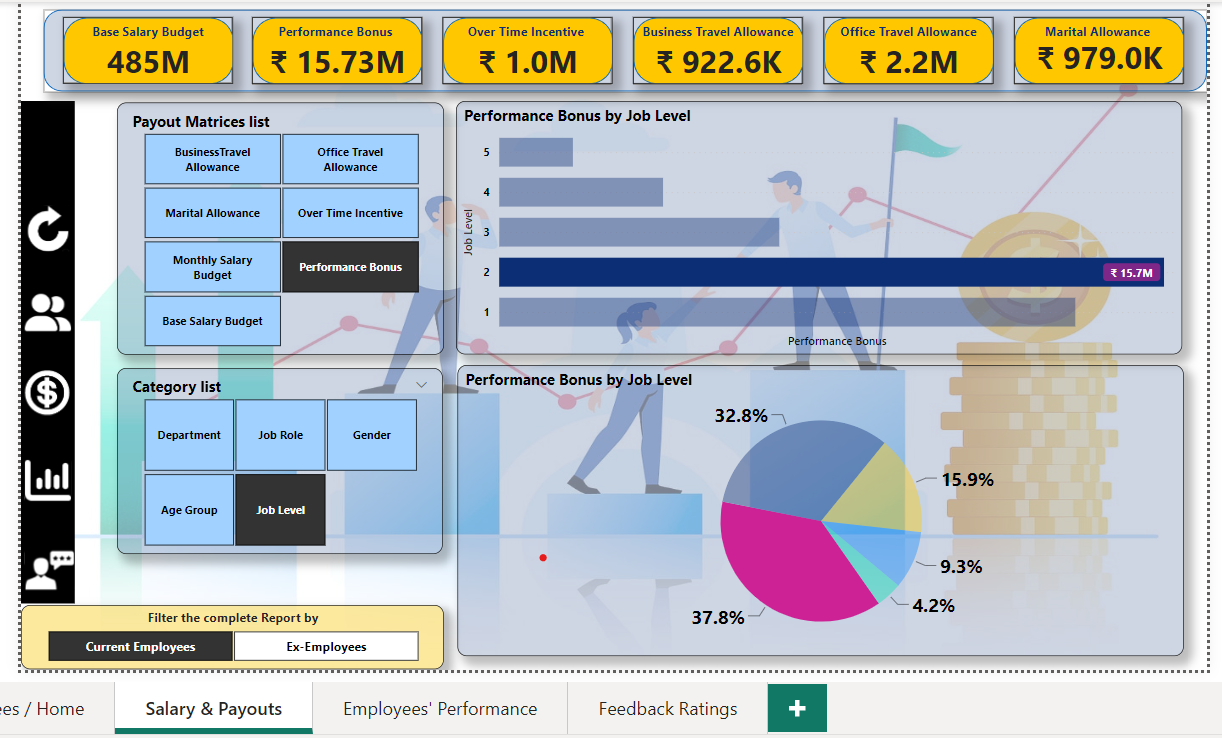

Layout of this report page (visuals, bound fields, positions):
{"tool":"powerbi","page":{"name":"Salary & Payouts","canvas":[1280,720],"ordinal":1},"visuals":[{"type":"shape","title":"backgroung","box":[24.3,8.1,1255,88.3],"z":0,"group":"g2"},{"type":"shape","box":[45.6,16.1,183.3,71.7],"z":0,"group":"g1"},{"type":"shape","box":[249.6,16.7,183.3,71.7],"z":0,"group":"g6"},{"type":"shape","box":[455,16.7,183.3,71.7],"z":0,"group":"g5"},{"type":"shape","box":[660.9,16.7,183.3,71.7],"z":0,"group":"g7"},{"type":"shape","box":[865.6,16.7,183.3,71.7],"z":0,"group":"g4"},{"type":"shape","box":[1071,16.7,183.3,71.7],"z":0,"group":"g3"},{"type":"actionButton","box":[0,212,58.2,64.7],"z":0,"group":"g8"},{"type":"slicer","title":"Filter the complete Report by","fields":{"Values":["Employees.attrition label"]},"box":[0,650.4,456.3,69.6],"z":0},{"type":"group","id":"g1","title":"Group 2","box":[45.6,16.1,183.3,71.7],"z":1000,"group":"g2"},{"type":"textbox","box":[45.6,16.1,183.3,36.7],"z":1000,"group":"g1"},{"type":"textbox","box":[249.6,16.7,183.3,36.7],"z":1000,"group":"g6"},{"type":"textbox","box":[455,16.7,183.3,36.7],"z":1000,"group":"g5"},{"type":"textbox","box":[660.3,16.7,183.3,36.7],"z":1000,"group":"g7"},{"type":"textbox","box":[865.6,16.7,183.3,36.7],"z":1000,"group":"g4"},{"type":"textbox","box":[1071,16.7,183.3,36.7],"z":1000,"group":"g3"},{"type":"shape","box":[0,106.8,58.2,542],"z":1000},{"type":"actionButton","box":[0,305.8,58.2,58.2],"z":1000,"group":"g8"},{"type":"group","id":"g2","title":"Group 3","box":[24.3,8.1,1255,88.3],"z":2000},{"type":"group","id":"g3","title":"Group 2","box":[1071,16.7,183.3,71.7],"z":2000,"group":"g2"},{"type":"card","title":"card","fields":{"Values":["Measures Table.$ Marital Allowance Paid Amount"]},"box":[1071.6,36.5,183.3,46.7],"z":2000,"group":"g3"},{"type":"card","title":"card","fields":{"Values":["Measures Table.$ yearly (base) Salary Budget"]},"box":[45.6,41.1,183.3,46.7],"z":2000,"group":"g1"},{"type":"card","title":"card","fields":{"Values":["Measures Table.$ Performance Bonus amount Paid"]},"box":[249.6,41.7,183.3,46.7],"z":2000,"group":"g6"},{"type":"card","title":"card","fields":{"Values":["Measures Table.$ Over Time Incentive Amount Paid"]},"box":[455,41.7,183.3,46.7],"z":2000,"group":"g5"},{"type":"card","title":"card","fields":{"Values":["Measures Table.$ BusinessTravel Allowance Paid Amount"]},"box":[660.3,41.7,183.3,46.7],"z":2000,"group":"g7"},{"type":"card","title":"card","fields":{"Values":["Measures Table.$ Office Travel Allowance Paid Amount"]},"box":[865.6,41.7,183.3,46.7],"z":2000,"group":"g4"},{"type":"actionButton","box":[0,393.2,58.2,56.6],"z":2000,"group":"g8"},{"type":"group","id":"g4","title":"Group 2","box":[865.6,16.7,183.3,71.7],"z":3000,"group":"g2"},{"type":"slicer","fields":{"Values":["#Parameter set of Payout Matrices.#Parameter set of Payout Matrices"]},"box":[103.6,108.4,352.7,271.8],"z":3000},{"type":"actionButton","box":[0,479,58.2,74.4],"z":3000,"group":"g8"},{"type":"group","id":"g5","title":"Group 2","box":[455,16.7,183.3,71.7],"z":4000,"group":"g2"},{"type":"barChart","fields":{"Y":["Measures Table.$ yearly (base) Salary Budget"],"Category":["Employees.Gender"]},"box":[469.2,106.8,784.7,273.4],"z":4000},{"type":"actionButton","box":[0,582.5,69.6,61.5],"z":4000,"group":"g8"},{"type":"group","id":"g6","title":"Group 2","box":[249.6,16.7,183.3,71.7],"z":5000,"group":"g2"},{"type":"slicer","fields":{"Values":["#Parameter- Category list.#Parameter- Category list"]},"box":[105.2,391.6,351.1,200.6],"z":5000},{"type":"group","id":"g7","title":"Business Travel payout","box":[660.3,16.7,183.3,71.7],"z":6000,"group":"g2"},{"type":"pieChart","fields":{"Y":["Measures Table.$ yearly (base) Salary Budget"],"Category":["Employees.Gender"]},"box":[470.8,391.6,783.1,313.9],"z":6000},{"type":"group","id":"g8","title":"Group 6","box":[0,212,69.6,432],"z":7000}]}

Visuals, with their boxes on the page's 1280x720 design canvas (x1, y1, x2, y2). These are canvas units, not pixel positions in the 1222x738 screenshot, which may show the page scaled, cropped or inside an application window:
"backgroung" shape: <region>24, 8, 1279, 96</region>
shape: <region>46, 16, 229, 88</region>
shape: <region>250, 17, 433, 88</region>
shape: <region>455, 17, 638, 88</region>
shape: <region>661, 17, 844, 88</region>
shape: <region>866, 17, 1049, 88</region>
shape: <region>1071, 17, 1254, 88</region>
actionButton: <region>0, 212, 58, 277</region>
"Filter the complete Report by" slicer: <region>0, 650, 456, 720</region>
"Group 2" group: <region>46, 16, 229, 88</region>
textbox: <region>46, 16, 229, 53</region>
textbox: <region>250, 17, 433, 53</region>
textbox: <region>455, 17, 638, 53</region>
textbox: <region>660, 17, 844, 53</region>
textbox: <region>866, 17, 1049, 53</region>
textbox: <region>1071, 17, 1254, 53</region>
shape: <region>0, 107, 58, 649</region>
actionButton: <region>0, 306, 58, 364</region>
"Group 3" group: <region>24, 8, 1279, 96</region>
"Group 2" group: <region>1071, 17, 1254, 88</region>
"card" card: <region>1072, 36, 1255, 83</region>
"card" card: <region>46, 41, 229, 88</region>
"card" card: <region>250, 42, 433, 88</region>
"card" card: <region>455, 42, 638, 88</region>
"card" card: <region>660, 42, 844, 88</region>
"card" card: <region>866, 42, 1049, 88</region>
actionButton: <region>0, 393, 58, 450</region>
"Group 2" group: <region>866, 17, 1049, 88</region>
slicer - #Parameter set of Payout Matrices.#Parameter set of Payout Matrices: <region>104, 108, 456, 380</region>
actionButton: <region>0, 479, 58, 553</region>
"Group 2" group: <region>455, 17, 638, 88</region>
barChart - Measures Table.$ yearly (base) Salary Budget x Employees.Gender: <region>469, 107, 1254, 380</region>
actionButton: <region>0, 582, 70, 644</region>
"Group 2" group: <region>250, 17, 433, 88</region>
slicer - #Parameter- Category list.#Parameter- Category list: <region>105, 392, 456, 592</region>
"Business Travel payout" group: <region>660, 17, 844, 88</region>
pieChart - Measures Table.$ yearly (base) Salary Budget x Employees.Gender: <region>471, 392, 1254, 706</region>
"Group 6" group: <region>0, 212, 70, 644</region>
